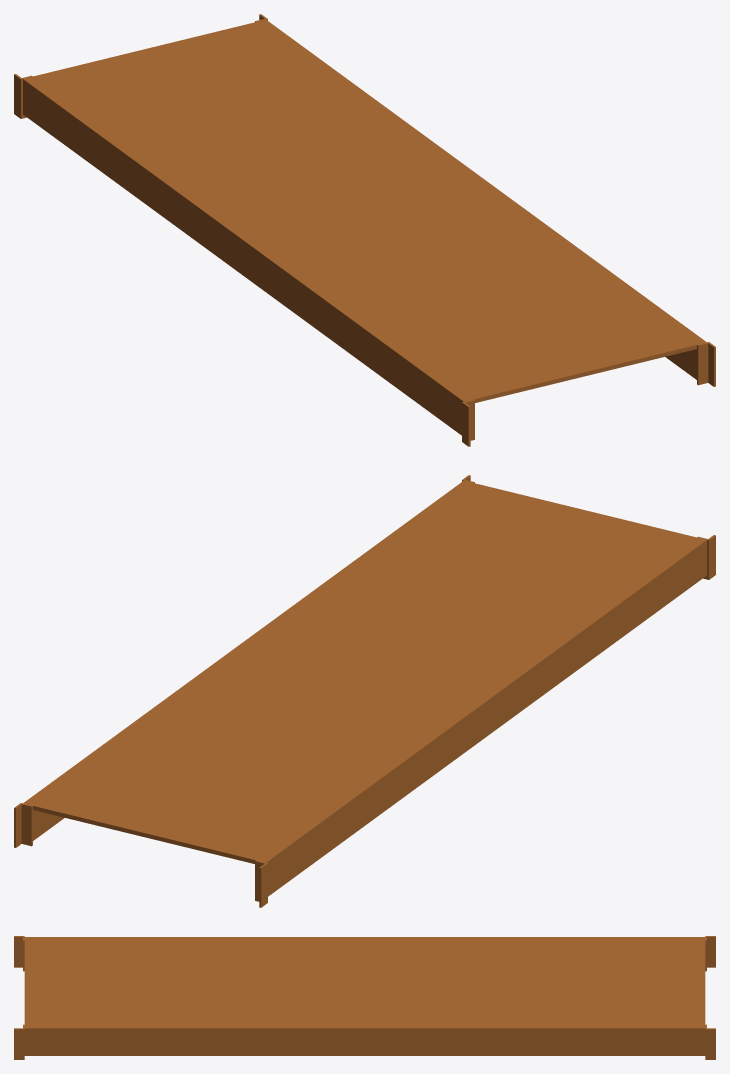
The model's file is Regal_2.obj.
3 renders of one model, top to bottom at view 1: azimuth 30°, elevation 25°; view 2: azimuth 150°, elevation 25°; view 3: azimuth 270°, elevation 25°, orthographic. The views are drawn at different scales.
Visible parts, largest first — view 1: Schwerlastregal_Querträger; view 2: Schwerlastregal_Querträger; view 3: Schwerlastregal_Querträger.
Part boxes in pixels (bbox=[...]): Schwerlastregal_Querträger: bbox=[14, 14, 715, 446]; Schwerlastregal_Querträger: bbox=[14, 475, 715, 907]; Schwerlastregal_Querträger: bbox=[14, 936, 715, 1059].
Size of the model in its own units: 1.74 by 0.266 by 5.53.
